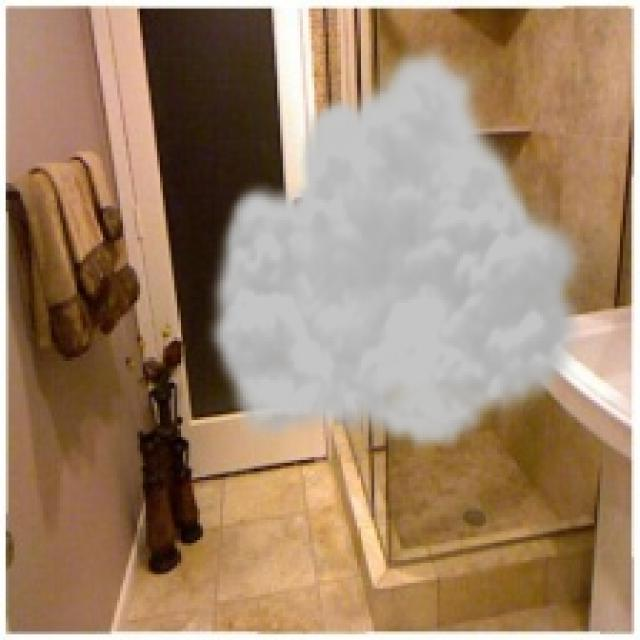Smoke: (202, 37, 594, 454)
